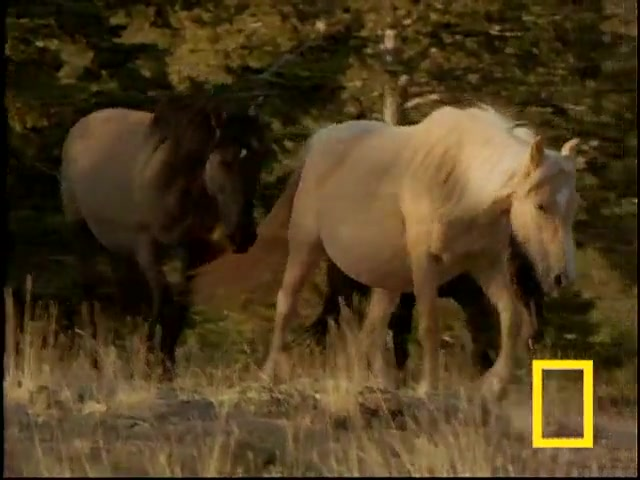horse: (261, 104, 581, 404)
